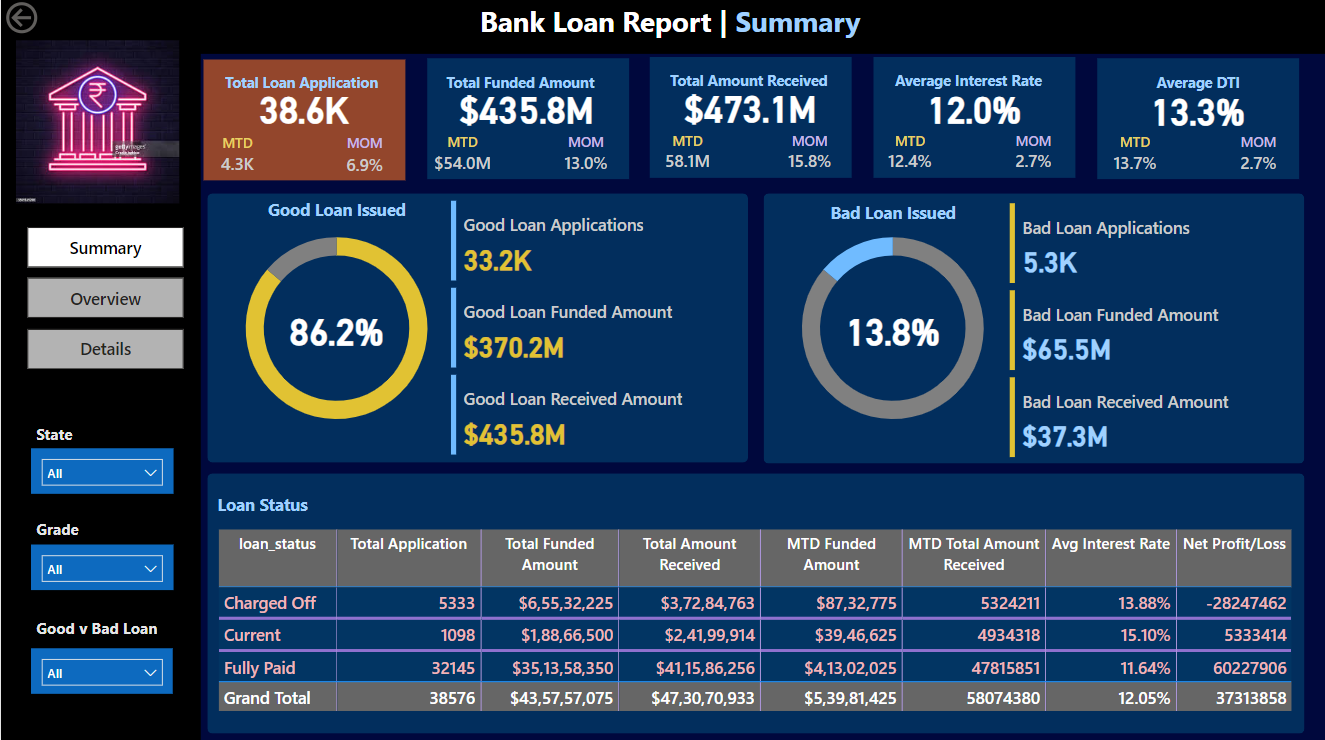

The dashboard page shown, as its layout file describes it:
{"tool":"powerbi","page":{"name":"Summary","canvas":[1280,720],"ordinal":0},"visuals":[{"type":"shape","box":[9.6,0,1270.7,54.9],"z":0},{"type":"shape","box":[0,0,192.9,720],"z":1000},{"type":"textbox","box":[379.1,0,541.2,54.9],"z":2000},{"type":"shape","box":[195.6,59.7,194.9,116.6],"z":3000},{"type":"card","fields":{"Values":["bank_loan_data.Total Application"]},"box":[199.2,82.4,186.8,49.5],"z":4000},{"type":"textbox","box":[211.3,68.1,173.1,50.8],"z":5000},{"type":"card","title":"MTD","fields":{"Values":["bank_loan_data.MTD Loan Applications"]},"box":[196.2,131.3,63.2,45.3],"z":6000},{"type":"card","title":"MOM","fields":{"Values":["bank_loan_data.MOM Loan Applications"]},"box":[317.3,131.9,67.3,44],"z":7000},{"type":"shape","box":[411.1,58.7,194.9,116.6],"z":8000},{"type":"card","fields":{"Values":["bank_loan_data.Total Funded Amount"]},"box":[413.5,82.4,186.8,49.5],"z":9000},{"type":"textbox","box":[424.6,67.1,173.1,50.8],"z":10000},{"type":"card","title":"MTD","fields":{"Values":["bank_loan_data.MTD Funded Amount"]},"box":[409.4,130.5,72.8,45.3],"z":11000},{"type":"card","title":"MOM","fields":{"Values":["bank_loan_data.MOM Funded Amount"]},"box":[530.2,130.5,67.3,44],"z":12000},{"type":"shape","box":[626.6,57.7,194.9,116.6],"z":13000},{"type":"card","fields":{"Values":["bank_loan_data.Total Amount Received"]},"box":[630.1,81.4,186.8,49.5],"z":14000},{"type":"textbox","box":[641.2,66.2,173.1,50.8],"z":15000},{"type":"card","title":"MTD","fields":{"Values":["bank_loan_data.MTD Total Amount Received"]},"box":[626,129.5,72.8,45.3],"z":16000},{"type":"card","title":"MOM","fields":{"Values":["bank_loan_data.MOM Total Amount Received"]},"box":[747.3,129.1,67.3,45.3],"z":17000},{"type":"shape","box":[842.1,57.9,194.9,116.6],"z":18000},{"type":"card","fields":{"Values":["bank_loan_data.Avg Interest Rate"]},"box":[845.6,81.5,186.8,49.5],"z":19000},{"type":"textbox","box":[857.2,65.9,163.5,50.8],"z":20000},{"type":"card","title":"MTD","fields":{"Values":["bank_loan_data.MTD Avg Interest Rate"]},"box":[841.5,129.6,72.8,45.3],"z":21000},{"type":"card","title":"MOM","fields":{"Values":["bank_loan_data.MOM Avg Interest Rate"]},"box":[963,129.1,67.3,45.3],"z":22000},{"type":"shape","box":[1057.6,59.1,194.9,116.6],"z":23000},{"type":"card","fields":{"Values":["bank_loan_data.Avg DTI"]},"box":[1062.2,82.7,186.8,49.5],"z":24000},{"type":"textbox","box":[1073.8,67.1,163.5,50.8],"z":25000},{"type":"card","title":"MTD","fields":{"Values":["bank_loan_data.MTD Avg DTI"]},"box":[1058.1,130.8,72.8,45.3],"z":26000},{"type":"card","title":"MOM","fields":{"Values":["bank_loan_data.MOM Avg DTI"]},"box":[1179.6,130.3,67.3,45.3],"z":27000},{"type":"shape","box":[199.2,189.6,522,260],"z":28000},{"type":"shape","box":[736.3,189.6,522,261],"z":29000},{"type":"donutChart","fields":{"Category":["bank_loan_data.Good vs Bad Loan"],"Y":["bank_loan_data.Total Application"]},"box":[199.2,204.7,250,229.4],"z":30000},{"type":"textbox","box":[237.6,189.6,173.1,35.7],"z":31000},{"type":"cardVisual","fields":{"Data":["bank_loan_data.Good Loan Applications","bank_loan_data.Good Loan Funded Amount","bank_loan_data.Good Loan Received Amount"]},"box":[430,192.3,269.2,256.9],"z":32000},{"type":"donutChart","fields":{"Category":["bank_loan_data.Good vs Bad Loan"],"Y":["bank_loan_data.Total Application"]},"box":[736.3,204.7,250,229.4],"z":33000},{"type":"textbox","box":[774.8,192.3,173.1,35.7],"z":34000},{"type":"cardVisual","fields":{"Data":["bank_loan_data.Bad Loan Applications","bank_loan_data.Bad Loan Funded Amount","bank_loan_data.Bad Loan Received Amount"]},"box":[968.5,193.7,269.2,256.9],"z":35000},{"type":"card","fields":{"Values":["bank_loan_data.Good Loan %"]},"box":[230.8,295.3,186.8,49.5],"z":36000},{"type":"card","fields":{"Values":["bank_loan_data.Bad Loan %"]},"box":[767.9,295.3,186.8,49.5],"z":37000},{"type":"shape","box":[199.2,460.2,1059.1,251.4],"z":38000},{"type":"tableEx","fields":{"Values":["bank_loan_data.loan_status","bank_loan_data.Total Application","bank_loan_data.Total Funded Amount","bank_loan_data.Total Amount Received","bank_loan_data.MTD Funded Amount","bank_loan_data.MTD Total Amount Received","bank_loan_data.Avg Interest Rate","bank_loan_data.Net Profit/Loss"]},"box":[203.9,509.1,1047.2,194.2],"z":39000},{"type":"actionButton","box":[0,0,100,40],"z":40000},{"type":"textbox","box":[203.9,474.1,139.9,35],"z":41000},{"type":"slicer","fields":{"Values":["bank_loan_data.address_state"]},"box":[29.5,435.2,137.4,44],"z":42000},{"type":"slicer","fields":{"Values":["bank_loan_data.grade"]},"box":[29.5,528.6,137.4,44],"z":43000},{"type":"textbox","box":[29.5,406.3,137.4,35.7],"z":44000},{"type":"textbox","box":[29.5,498.4,137.4,35.7],"z":45000},{"type":"slicer","fields":{"Values":["bank_loan_data.Good vs Bad Loan"]},"box":[29.4,628.6,137.1,44.3],"z":46000},{"type":"textbox","box":[29.5,593.1,137.4,35.7],"z":47000},{"type":"image","box":[10,35.7,167.1,168.6],"z":48000},{"type":"pageNavigator","box":[25.7,221.4,151.4,138.6],"z":49000}]}

Visuals, with their boxes in screenshot pixels (x1, y1, x2, y2), scaled from the page's 1280x720 canvas onto the 1325x740 screenshot:
shape: bbox=[10, 0, 1324, 56]
shape: bbox=[0, 0, 200, 739]
textbox: bbox=[392, 0, 953, 56]
shape: bbox=[202, 61, 404, 181]
card - bank_loan_data.Total Application: bbox=[206, 85, 400, 136]
textbox: bbox=[219, 70, 398, 122]
"MTD" card: bbox=[203, 135, 269, 182]
"MOM" card: bbox=[328, 136, 398, 181]
shape: bbox=[426, 60, 627, 180]
card - bank_loan_data.Total Funded Amount: bbox=[428, 85, 621, 136]
textbox: bbox=[440, 69, 619, 121]
"MTD" card: bbox=[424, 134, 499, 181]
"MOM" card: bbox=[549, 134, 619, 179]
shape: bbox=[649, 59, 850, 179]
card - bank_loan_data.Total Amount Received: bbox=[652, 84, 846, 135]
textbox: bbox=[664, 68, 843, 120]
"MTD" card: bbox=[648, 133, 723, 180]
"MOM" card: bbox=[774, 133, 843, 179]
shape: bbox=[872, 60, 1073, 179]
card - bank_loan_data.Avg Interest Rate: bbox=[875, 84, 1069, 135]
textbox: bbox=[887, 68, 1057, 120]
"MTD" card: bbox=[871, 133, 946, 180]
"MOM" card: bbox=[997, 133, 1067, 179]
shape: bbox=[1095, 61, 1297, 181]
card - bank_loan_data.Avg DTI: bbox=[1100, 85, 1293, 136]
textbox: bbox=[1112, 69, 1281, 121]
"MTD" card: bbox=[1095, 134, 1171, 181]
"MOM" card: bbox=[1221, 134, 1291, 180]
shape: bbox=[206, 195, 747, 462]
shape: bbox=[762, 195, 1303, 463]
donutChart - bank_loan_data.Good vs Bad Loan x bank_loan_data.Total Application: bbox=[206, 210, 465, 446]
textbox: bbox=[246, 195, 425, 232]
cardVisual - bank_loan_data.Good Loan Applications x bank_loan_data.Good Loan Funded Amount: bbox=[445, 198, 724, 462]
donutChart - bank_loan_data.Good vs Bad Loan x bank_loan_data.Total Application: bbox=[762, 210, 1021, 446]
textbox: bbox=[802, 198, 981, 234]
cardVisual - bank_loan_data.Bad Loan Applications x bank_loan_data.Bad Loan Funded Amount: bbox=[1003, 199, 1281, 463]
card - bank_loan_data.Good Loan %: bbox=[239, 304, 432, 354]
card - bank_loan_data.Bad Loan %: bbox=[795, 304, 988, 354]
shape: bbox=[206, 473, 1303, 731]
tableEx - bank_loan_data.loan_status x bank_loan_data.Total Application: bbox=[211, 523, 1295, 723]
actionButton: bbox=[0, 0, 104, 41]
textbox: bbox=[211, 487, 356, 523]
slicer - bank_loan_data.address_state: bbox=[31, 447, 173, 493]
slicer - bank_loan_data.grade: bbox=[31, 543, 173, 589]
textbox: bbox=[31, 418, 173, 454]
textbox: bbox=[31, 512, 173, 549]
slicer - bank_loan_data.Good vs Bad Loan: bbox=[30, 646, 172, 692]
textbox: bbox=[31, 610, 173, 646]
image: bbox=[10, 37, 183, 210]
pageNavigator: bbox=[27, 228, 183, 370]
